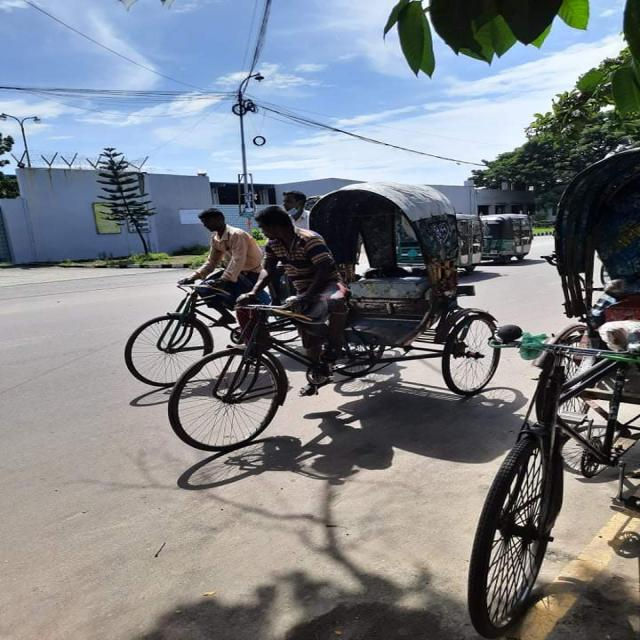rickshaw: (151, 194, 485, 469)
